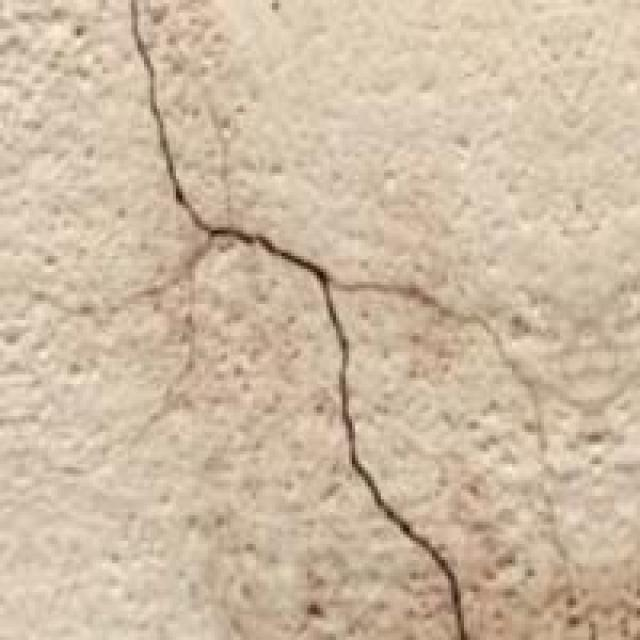Crack: (121, 3, 492, 637)
